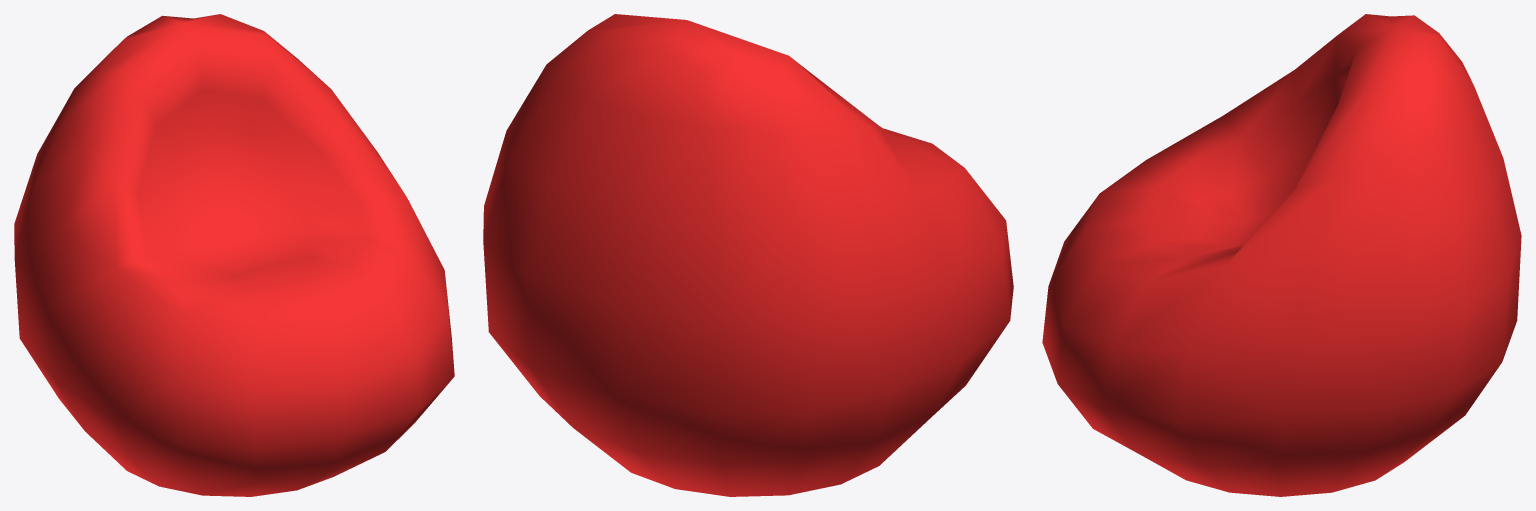
File: armchair_007.glb
3 renders of one model, left to right at view 1: azimuth 30°, elevation 25°; view 2: azimuth 150°, elevation 25°; view 3: azimuth 270°, elevation 25°, orthographic. The views are drawn at different scales.
Visible parts, largest first — view 1: armchair_007; view 2: armchair_007; view 3: armchair_007.
Boxes of the visible parts, box(x1,y1,x2,y2) form: armchair_007: box(14, 14, 454, 496); armchair_007: box(483, 14, 1013, 496); armchair_007: box(1042, 14, 1521, 496).
Size of the model in its own units: 1.01 by 1.03 by 1.09.
Materials: 1 (1 with a texture image).
